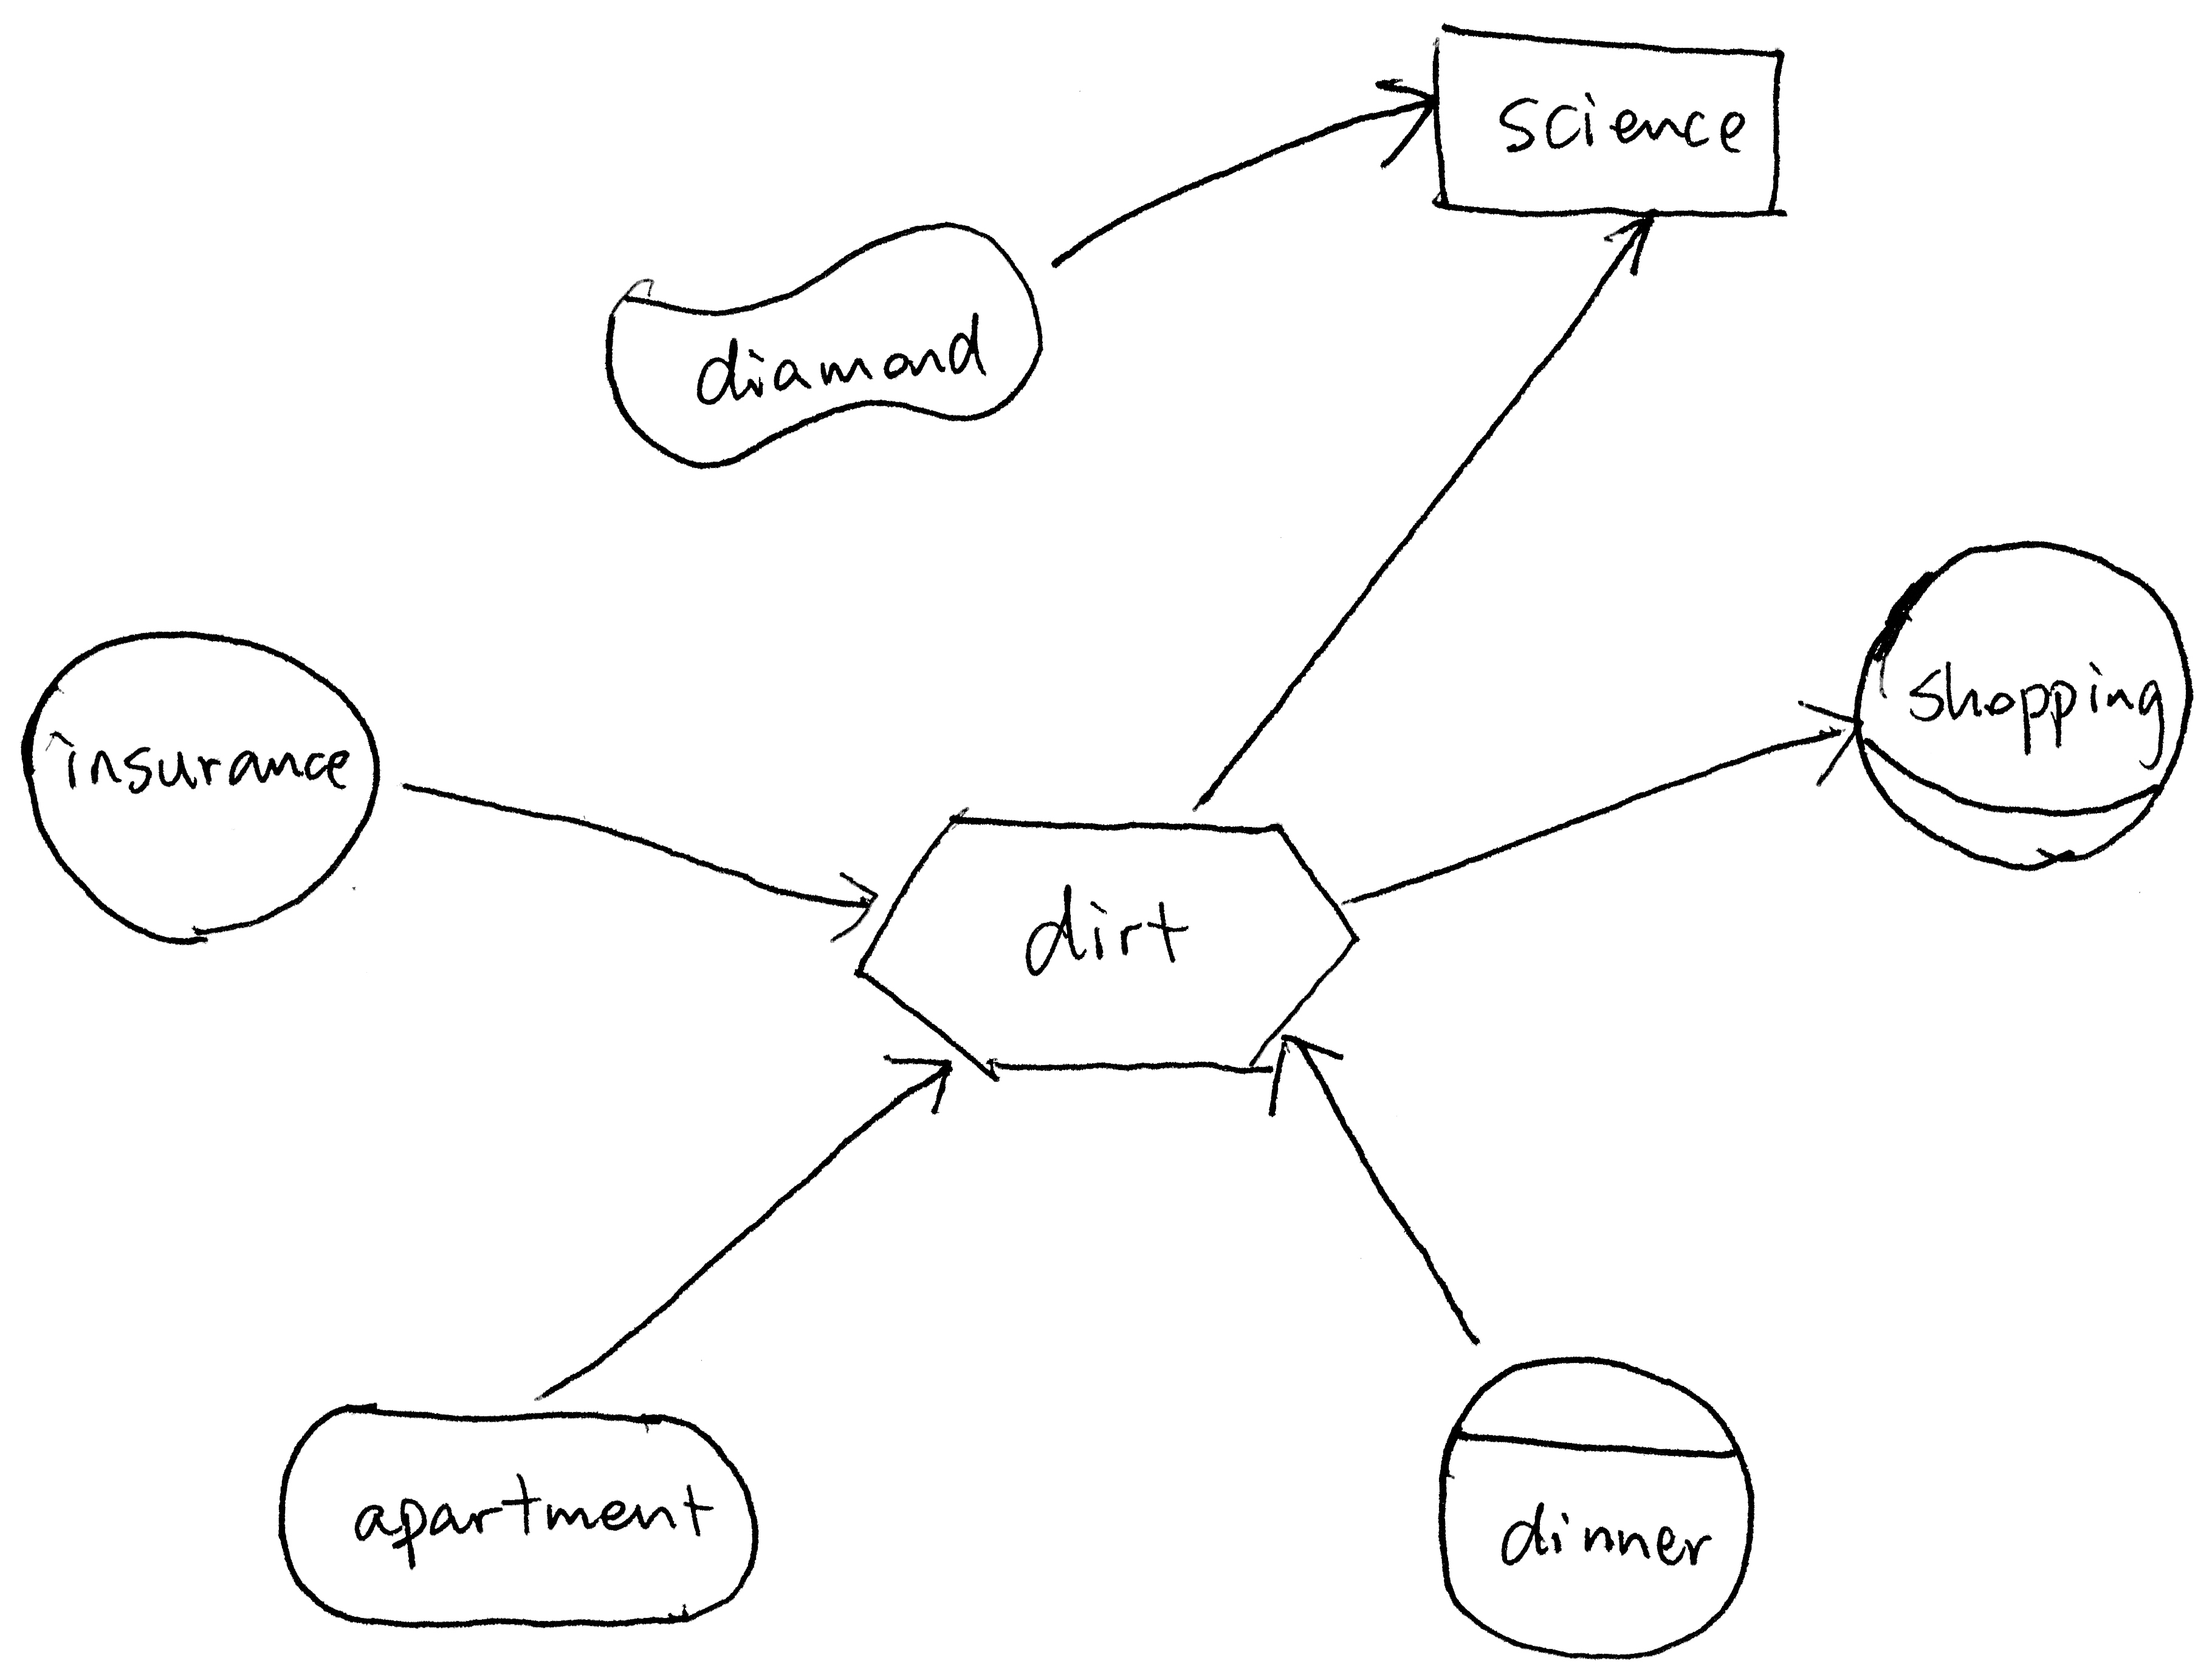actor: (9, 608, 398, 965)
agent: (1407, 1337, 1773, 1673)
arrow: (1245, 1018, 1372, 1138), (1777, 678, 1884, 803), (1351, 63, 1451, 176), (872, 1032, 972, 1136), (815, 838, 893, 955), (1583, 201, 1671, 287)
goal: (255, 1378, 778, 1649)
quality: (572, 197, 1062, 477)
resource: (831, 789, 1379, 1106), (1412, 7, 1819, 250)
role: (1828, 527, 2205, 907)
